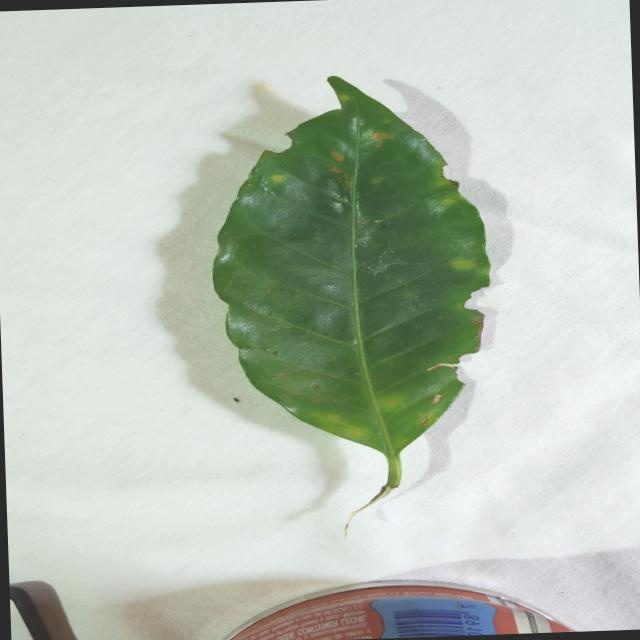KaratDaunKopi: (371, 132, 390, 147), (450, 258, 474, 269), (331, 151, 344, 162), (271, 174, 283, 182), (370, 176, 383, 183), (331, 165, 342, 173), (442, 198, 454, 205), (338, 94, 349, 101)
